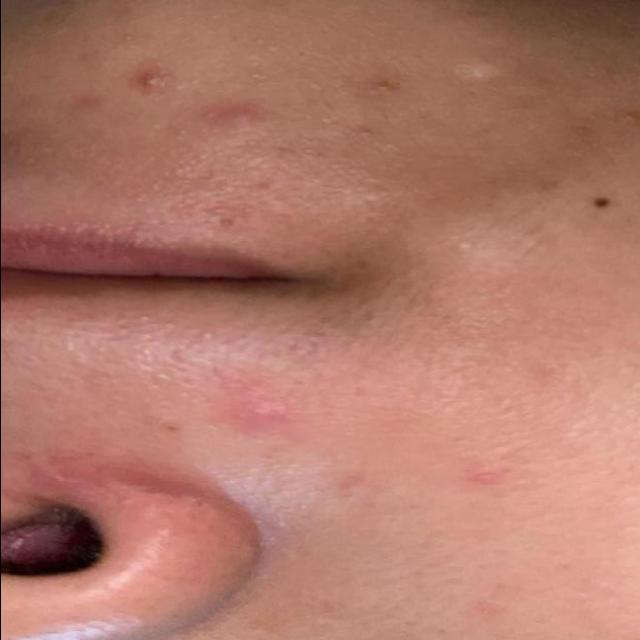papule: (190, 381, 338, 443), (171, 80, 276, 164)
pustule: (131, 59, 169, 107)
